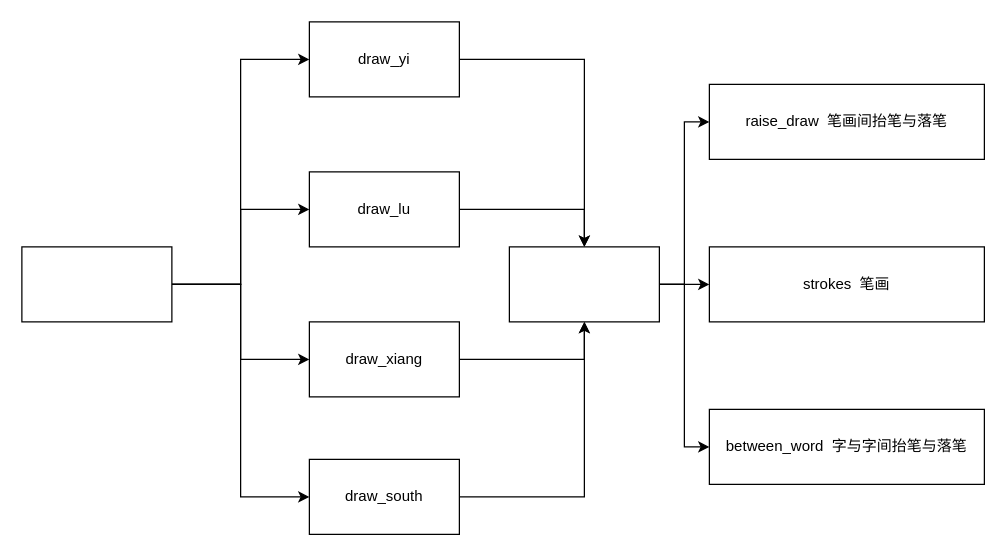
Image size: 1006x556. Some labels were removed from this diagram. The shapes that lost their labels are listed below. From the top down, each one's centre as x and y in pixels, then its label:
At (x=96, y=284): "one version".
At (x=583, y=284): "支撑函数".
